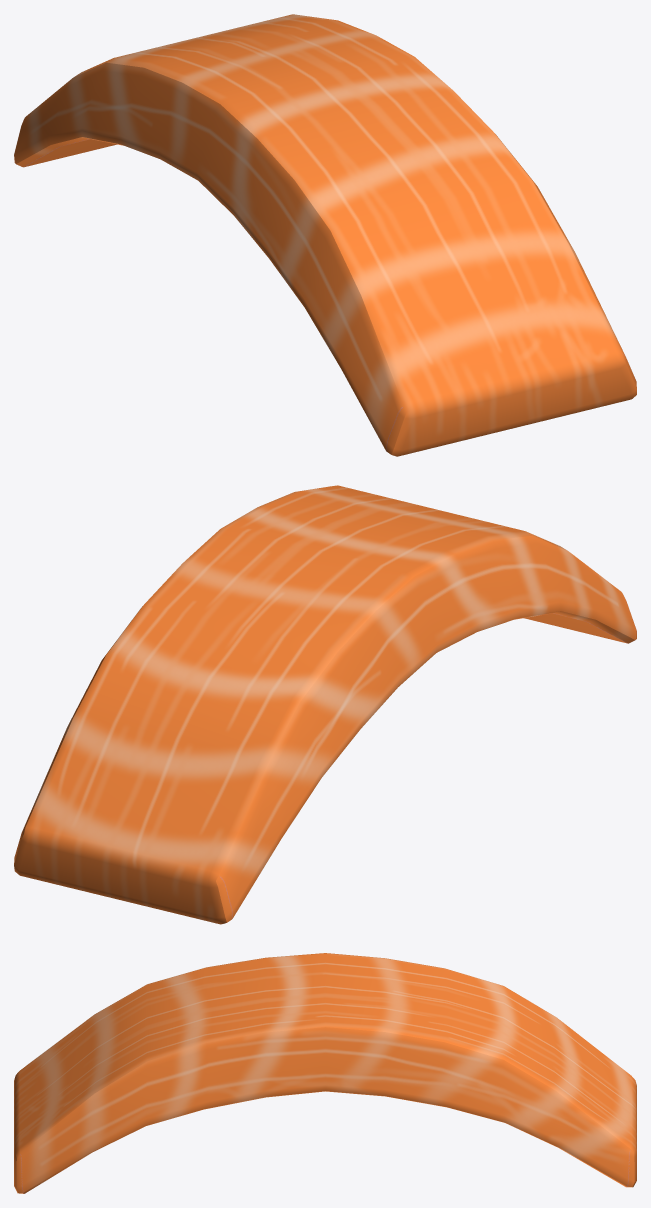
File: neta_samon.fbx
The picture shows the model from 3 angles, top to bottom: view 1: azimuth 30°, elevation 25°; view 2: azimuth 150°, elevation 25°; view 3: azimuth 270°, elevation 25°; orthographic projection. The views are drawn at different scales.
Parts seen in each view (by area): view 1: Neta_Samon; view 2: Neta_Samon; view 3: Neta_Samon.
Part boxes in pixels (x1,y1,x2,y2): Neta_Samon: [14, 14, 636, 456]; Neta_Samon: [14, 485, 636, 924]; Neta_Samon: [14, 953, 636, 1193].
Size of the model in its own units: 0.8996 by 0.688 by 2.42.
1 material, 1 textured.
